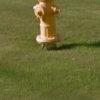Hydrant: (23, 0, 67, 58)
